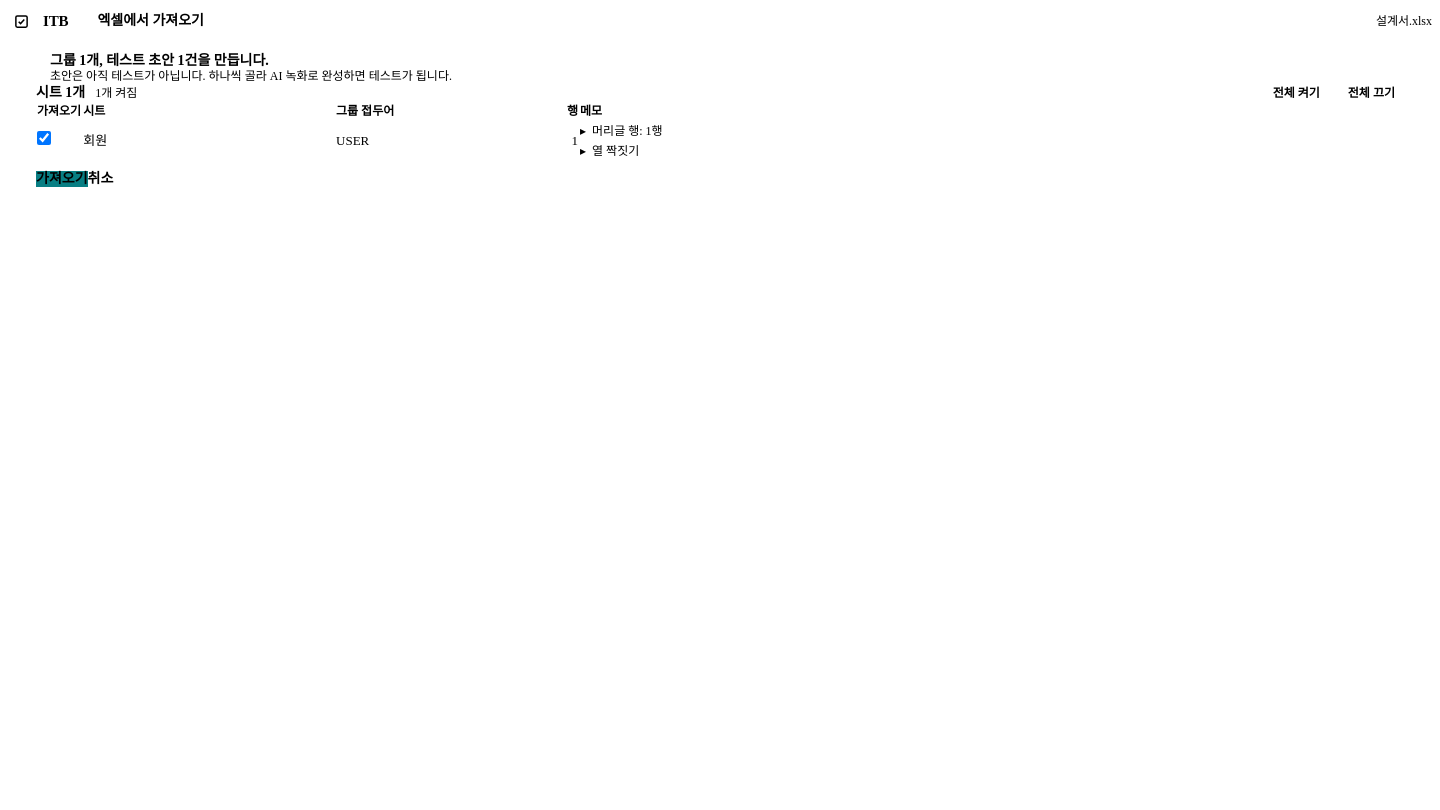
Test: 확정이 막힐 때 › 계획이 만료되면 파일을 다시 고르라고 말한다
The width and height of the screenshot is (1440, 810).
What coordinates should you click on to do the following:
click the button "가져오기"
I would click on:
 (62, 179)
Its box is [36,171,88,187].
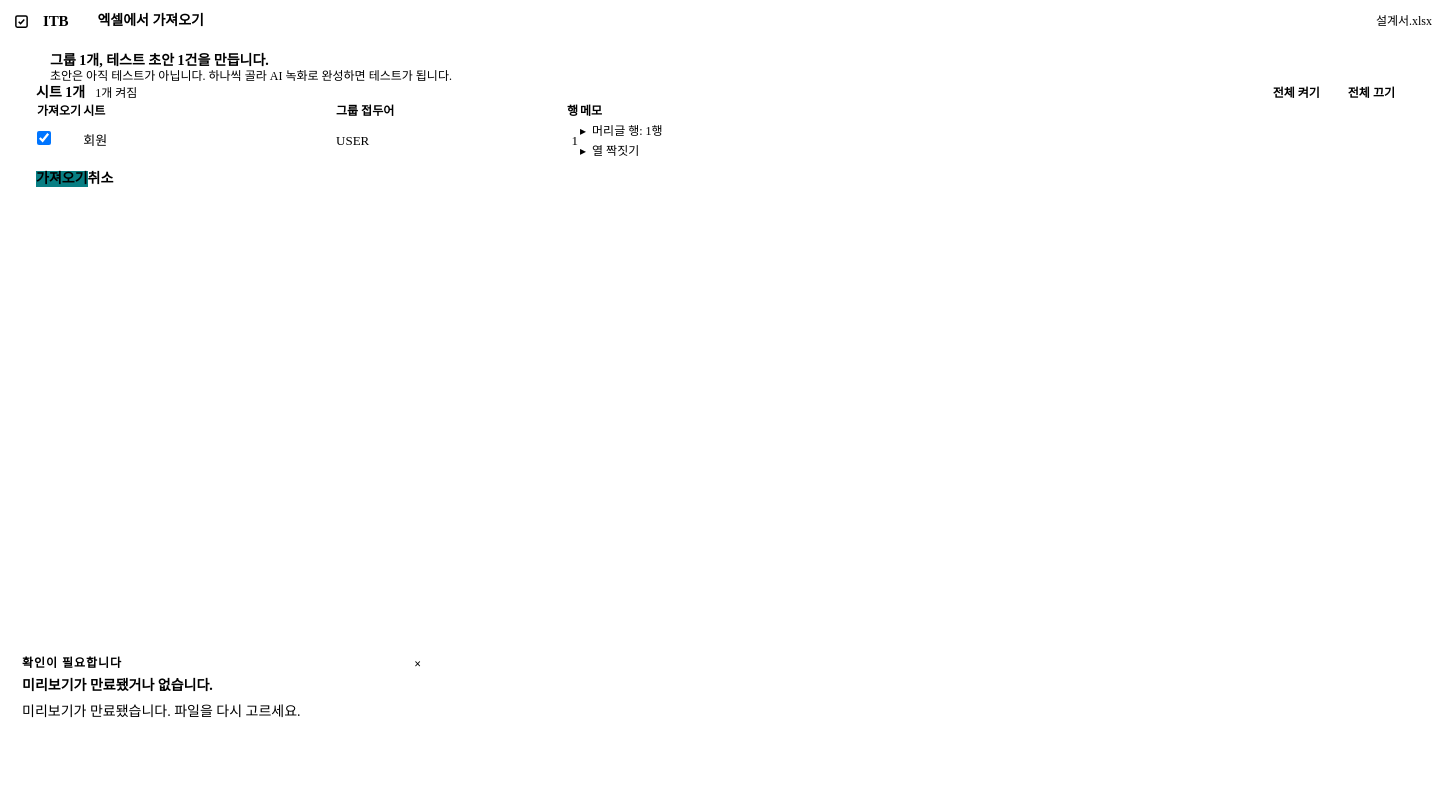
Expected: the text "미리보기가 만료됐거나 없습니다." is shown, [22,678,213,693]
Expected: the text "미리보기가 만료됐습니다. 파일을 다시 고르세요." is shown, [22,704,301,719]
